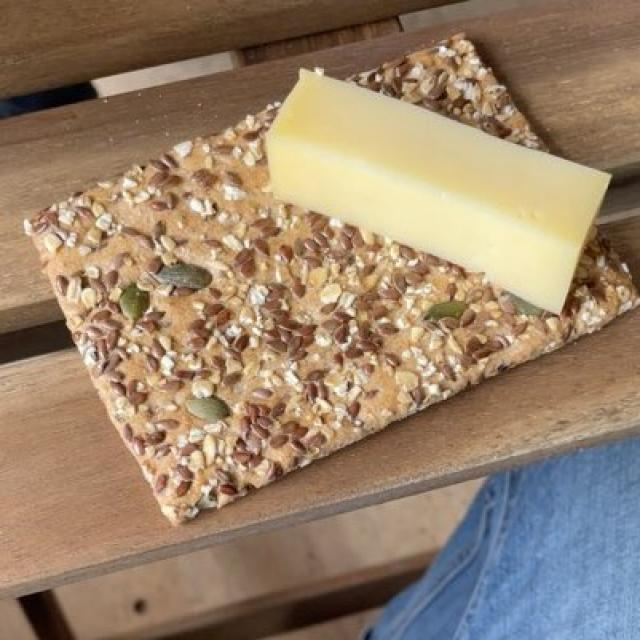hard-cheese: (269, 70, 598, 305)
